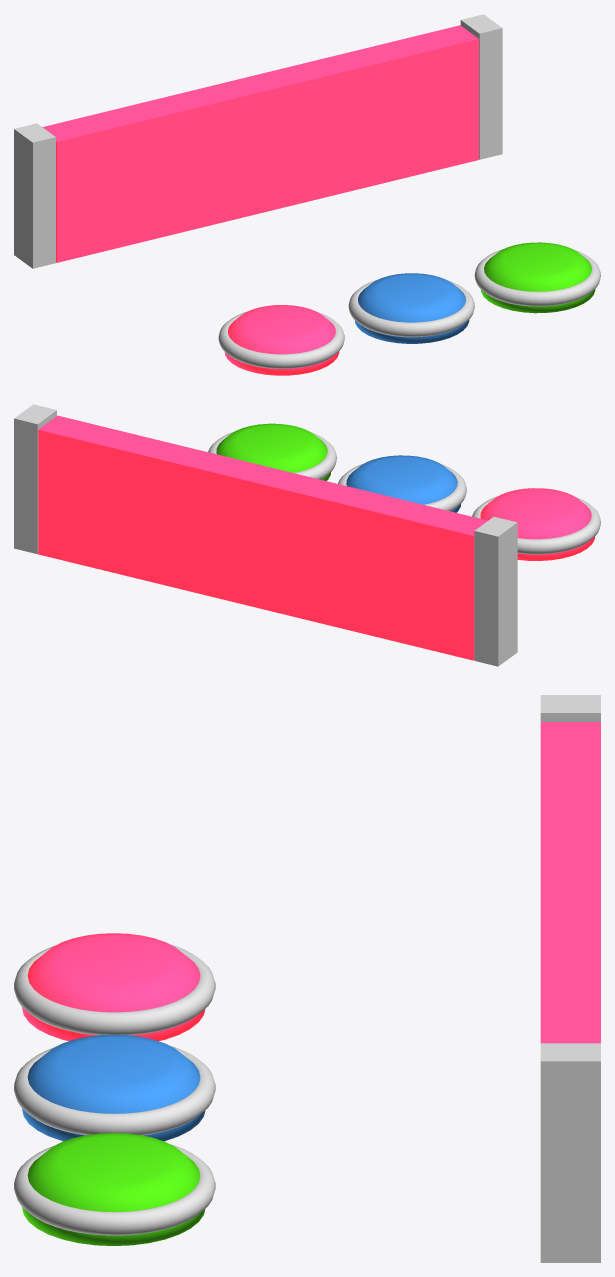
File: DuvarButonlu.fbx
3 views of the same model, one above another, from view 1: azimuth 30°, elevation 25°; view 2: azimuth 150°, elevation 25°; view 3: azimuth 270°, elevation 25° (orthographic). The views are drawn at different scales.
Visible parts, largest first — view 1: Duvar, Duvar Kenar, Pembe Buton.002, Pembe Buton.001, Pembe Buton; view 2: Duvar, Duvar Kenar, Pembe Buton, Pembe Buton.001, Pembe Buton.002; view 3: Duvar, Pembe Buton.001, Pembe Buton, Pembe Buton.002, Duvar Kenar.
Part boxes in pixels (x1=…): Duvar: x1=42, y1=25, x2=478, y2=262; Duvar Kenar: x1=14, y1=14, x2=502, y2=268; Pembe Buton.002: x1=348, y1=273, x2=474, y2=343; Pembe Buton.001: x1=474, y1=242, x2=600, y2=313; Pembe Buton: x1=218, y1=305, x2=344, y2=375; Duvar: x1=38, y1=415, x2=487, y2=660; Duvar Kenar: x1=14, y1=404, x2=517, y2=666; Pembe Buton: x1=472, y1=488, x2=600, y2=560; Pembe Buton.001: x1=208, y1=423, x2=336, y2=480; Pembe Buton.002: x1=338, y1=455, x2=466, y2=512; Duvar: x1=540, y1=722, x2=600, y2=1043; Pembe Buton.001: x1=14, y1=1133, x2=215, y2=1245; Pembe Buton: x1=14, y1=933, x2=215, y2=1040; Pembe Buton.002: x1=14, y1=1034, x2=215, y2=1141; Duvar Kenar: x1=540, y1=695, x2=600, y2=1262.
Bounding box in the file's own units: 1093 × 310 × 740.
